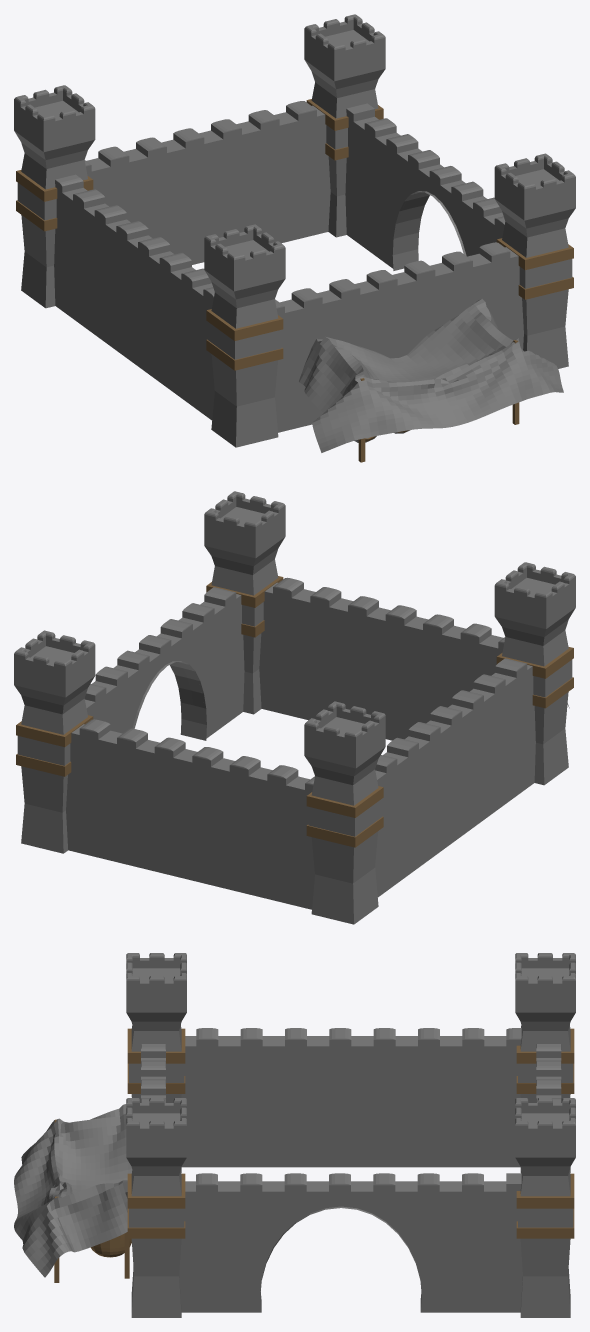
The model's file is castelo.fbx.
The picture shows the model from 3 angles, top to bottom: view 1: azimuth 30°, elevation 25°; view 2: azimuth 150°, elevation 25°; view 3: azimuth 270°, elevation 25°; orthographic projection. The views are drawn at different scales.
Parts seen in each view (by area): view 1: torre, muros laterais, muro fundo, pano, muro frontal; view 2: muros laterais, torre, muro fundo, muro frontal; view 3: muro fundo, torre, muro frontal, pano, muros laterais, barris.
Part boxes in pixels (x1,y1,x2,y2): torre: (14,14,575,447); muros laterais: (84,101,523,432); muro fundo: (54,174,214,420); pano: (299,299,563,452); muro frontal: (345,103,505,270); muros laterais: (66,577,505,909); torre: (14,491,575,924); muro fundo: (375,658,535,897); muro frontal: (84,587,244,740); muro fundo: (181,1028,521,1167); torre: (126,953,575,1317); muro frontal: (179,1173,522,1312); pano: (14,1104,132,1277); muros laterais: (141,1044,561,1102); barris: (90,1233,131,1257).
Bounding box in the file's own units: 1609 × 912 × 2240.
